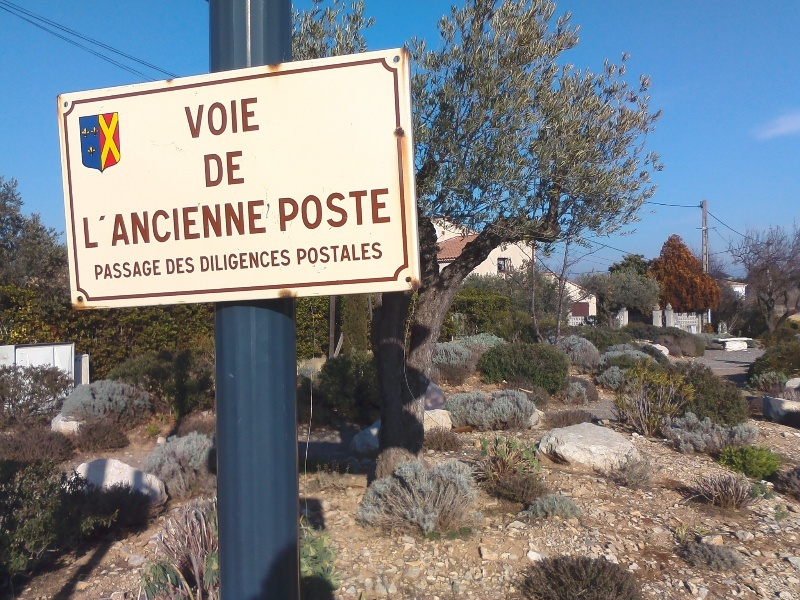text: (97, 199, 112, 250), (113, 199, 128, 250), (129, 199, 144, 250), (145, 199, 160, 250), (161, 199, 176, 250), (177, 199, 192, 250), (193, 199, 208, 250), (209, 199, 224, 250), (225, 199, 240, 250), (241, 199, 256, 250), (82, 199, 96, 250), (289, 187, 304, 234), (305, 187, 320, 234), (321, 187, 336, 234), (337, 187, 352, 234), (353, 187, 368, 234), (369, 187, 384, 234), (193, 97, 208, 141), (209, 97, 224, 141), (225, 97, 240, 141), (241, 97, 256, 141), (209, 150, 224, 190), (225, 150, 240, 190), (257, 199, 268, 250), (279, 187, 288, 234), (385, 187, 393, 234), (209, 249, 224, 273), (225, 249, 240, 273), (241, 249, 256, 273), (257, 249, 272, 273), (273, 249, 288, 273), (184, 97, 192, 141), (97, 259, 112, 282), (113, 259, 128, 282), (129, 259, 144, 282), (145, 259, 160, 282), (305, 242, 320, 265), (321, 242, 336, 265), (337, 242, 352, 265), (353, 242, 368, 265), (369, 242, 384, 265), (177, 257, 192, 275), (203, 150, 208, 190), (241, 150, 246, 190), (200, 249, 208, 273), (166, 257, 176, 275), (257, 97, 261, 141), (297, 242, 304, 265), (289, 249, 292, 273), (93, 259, 96, 282), (161, 259, 163, 282), (193, 257, 195, 275)
